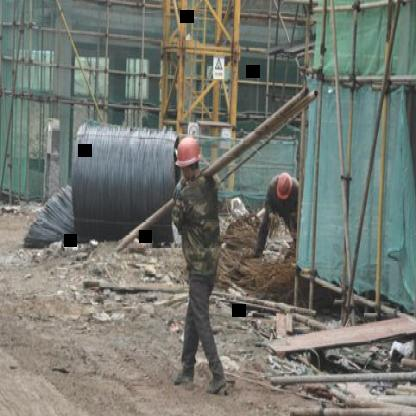helmet: (172, 134, 204, 184), (273, 170, 297, 206)
